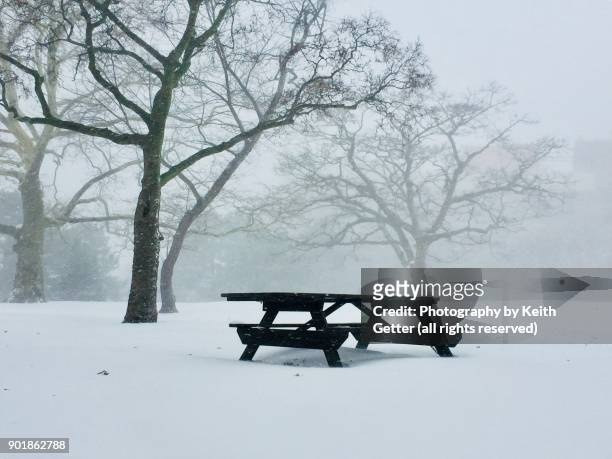obstacle: (222, 292, 372, 366)
